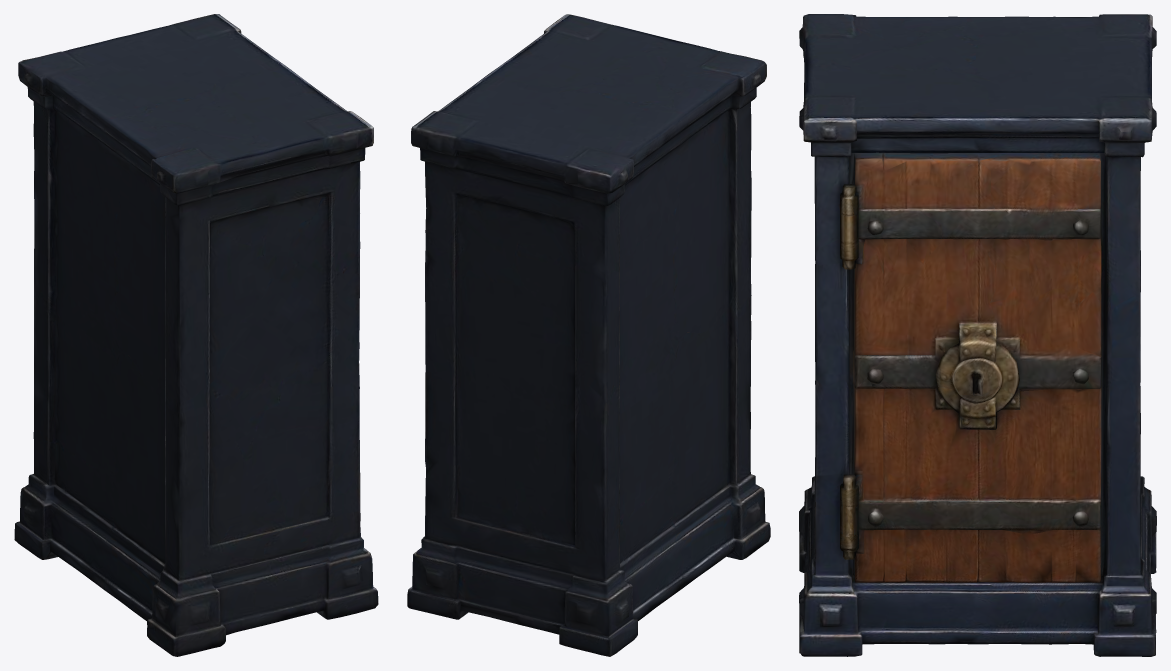
Rendered from safe.glb.
3 views of the same model, side by side, from view 1: azimuth 30°, elevation 25°; view 2: azimuth 150°, elevation 25°; view 3: azimuth 270°, elevation 25° (orthographic). The views are drawn at different scales.
Parts seen in each view (by area): view 1: tripo_node_8b833601-7911-49ae-9967-412070c2d81f; view 2: tripo_node_8b833601-7911-49ae-9967-412070c2d81f; view 3: tripo_node_8b833601-7911-49ae-9967-412070c2d81f.
Boxes of the visible parts, left/top/right/bottom form: tripo_node_8b833601-7911-49ae-9967-412070c2d81f: left=14, top=14, right=378, bottom=656; tripo_node_8b833601-7911-49ae-9967-412070c2d81f: left=407, top=14, right=770, bottom=656; tripo_node_8b833601-7911-49ae-9967-412070c2d81f: left=799, top=14, right=1156, bottom=656.
Size of the model in its own units: 0.4586 by 1 by 0.6054.
Materials: 1 (1 with a texture image).
